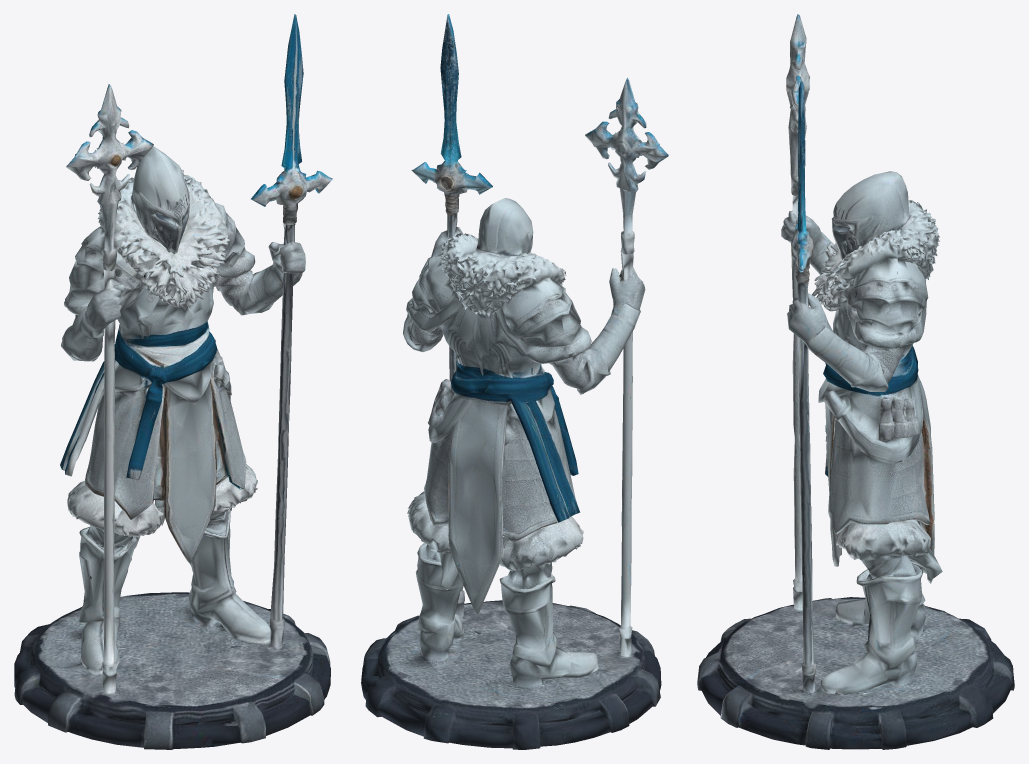
Rendered from freezers.glb.
3 views of the same model, side by side, from view 1: azimuth 30°, elevation 25°; view 2: azimuth 150°, elevation 25°; view 3: azimuth 270°, elevation 25° (orthographic). The views are drawn at different scales.
Bounding box in the file's own units: 0.8272 × 1.9 × 0.844.
1 material, 1 textured.
